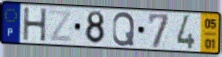4: (175, 14, 198, 52)
7: (148, 11, 171, 49)
8: (83, 10, 106, 46)
H: (22, 7, 49, 43)
Q: (111, 11, 136, 47)
Z: (48, 8, 74, 44)
